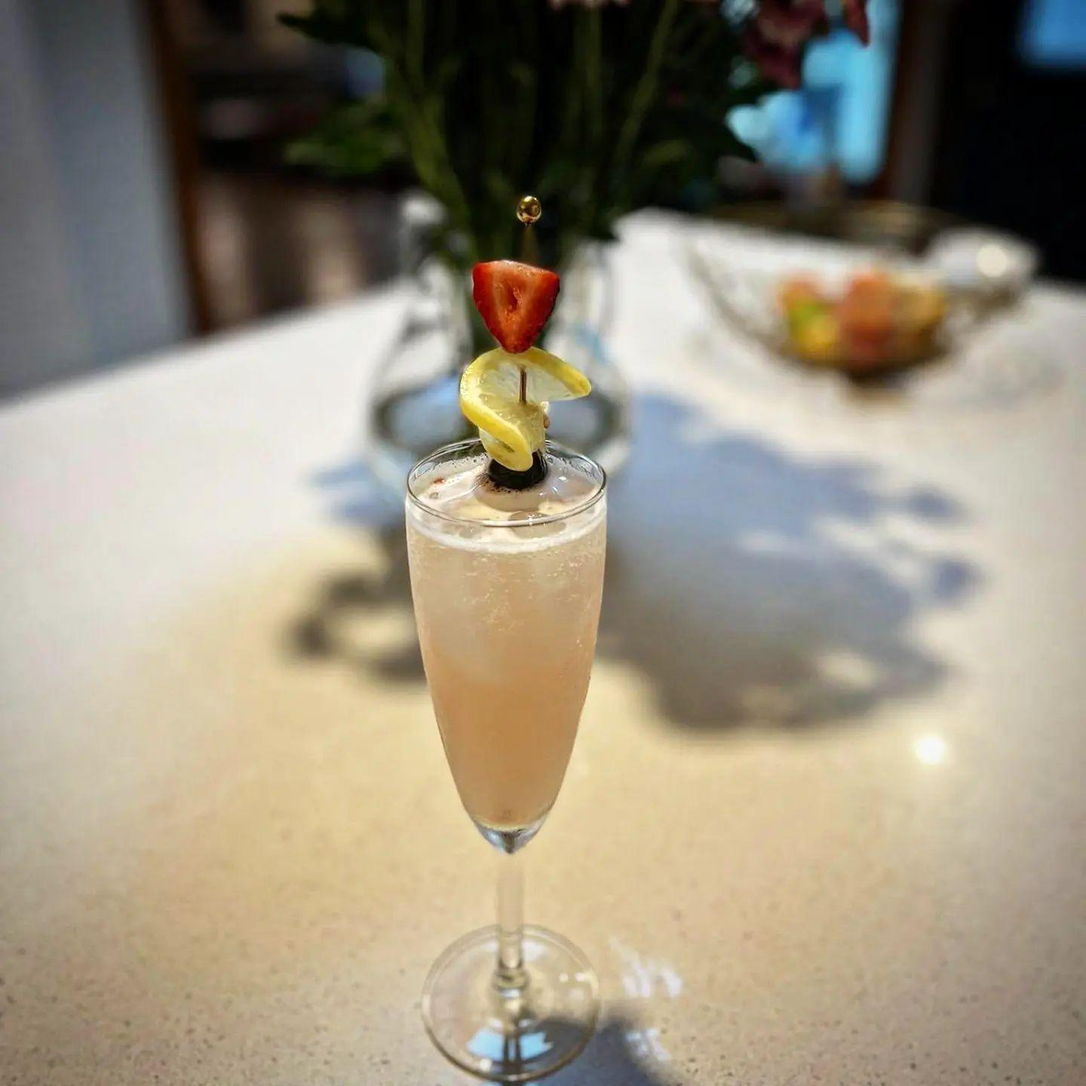glass-wine: (400, 425, 621, 1086)
